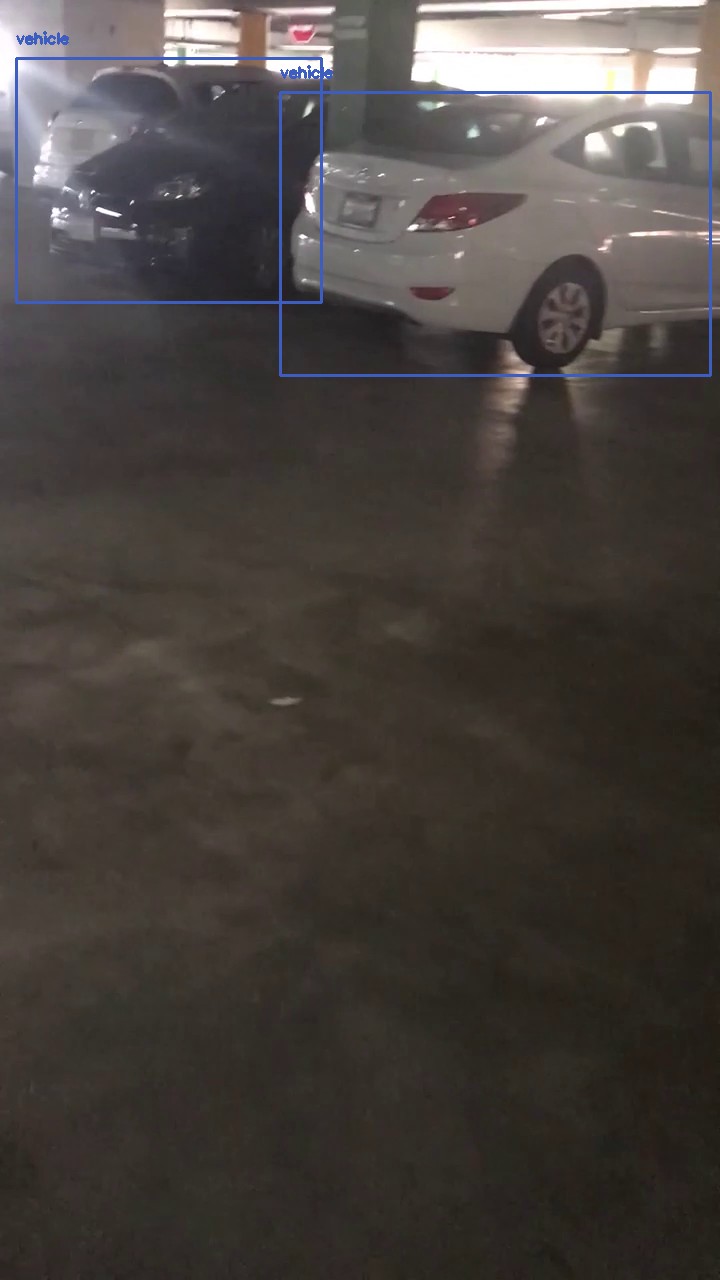vehicle: (280, 92, 710, 375), (16, 58, 321, 302)
